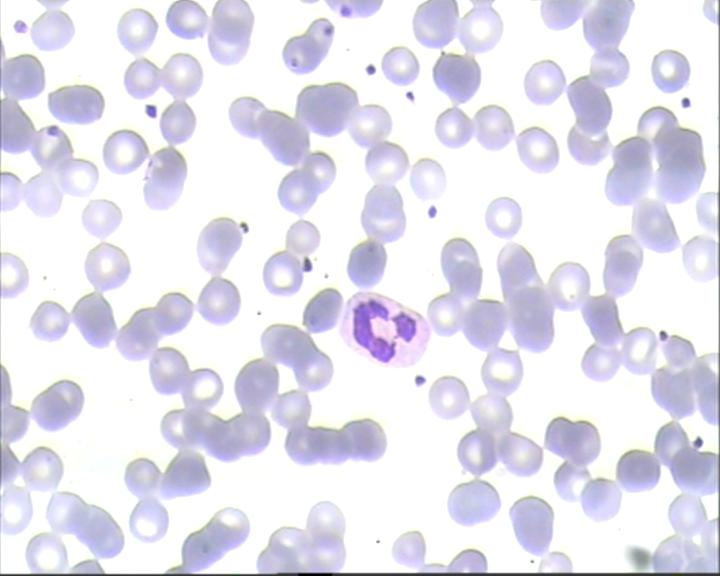neut: (339, 284, 435, 369)
